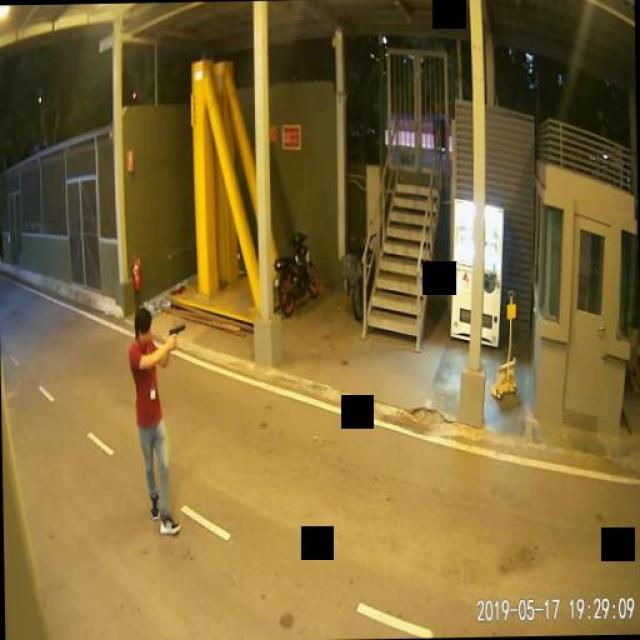gun: (166, 322, 184, 348)
